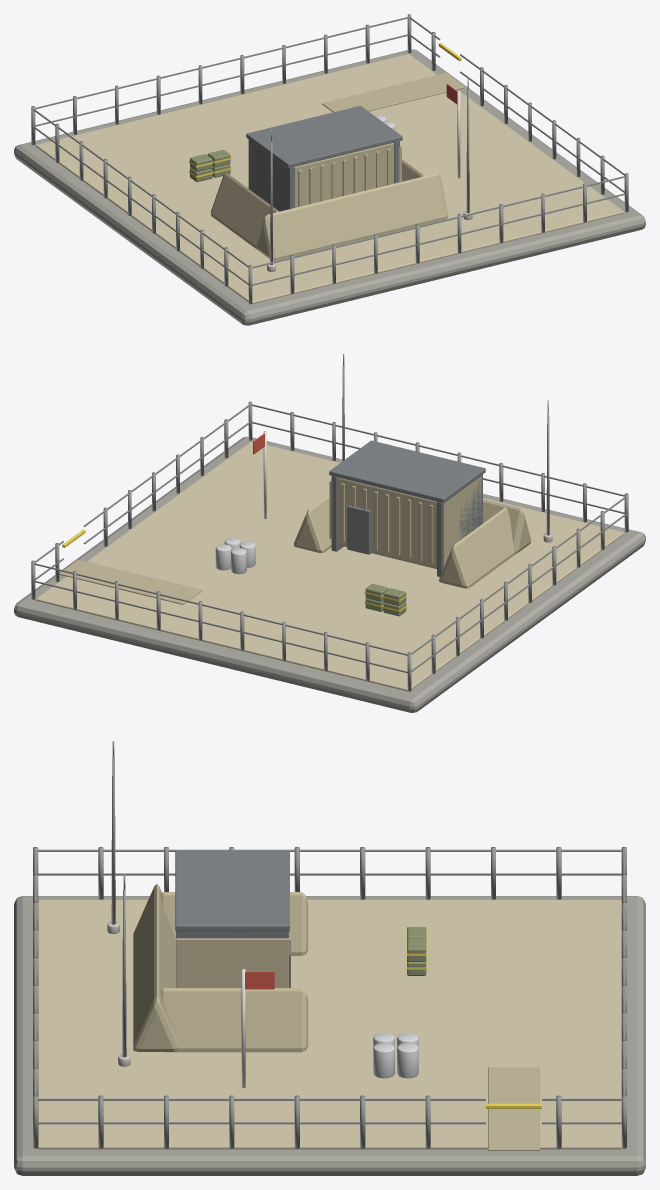
File: tnt_2.glb
3 views of the same model, one above another, from view 1: azimuth 30°, elevation 25°; view 2: azimuth 150°, elevation 25°; view 3: azimuth 270°, elevation 25° (orthographic). The views are drawn at different scales.
Visible parts, largest first — view 1: Cube.001, Cube, prism, Cube.016, Cube.003, prism.001, Cube.002, Cube.004, Cube.028, Cube.032, Cube.033, Cube.027 (+2 smaller); view 2: Cube.001, Cube, Cube.003, Cube.016, prism.001, Cube.002, prism.002, Cube.004, Cube.017, prism, Cube.032, Cube.027 (+4 smaller); view 3: Cube.001, Cube, Cube.016, prism.002, prism, Cube.015, Cube.002, prism.001, Cube.034, Cube.029, Cube.031, Cube.036 (+7 smaller).
Boxes of the visible parts, left/top/right/bottom form: Cube.001: left=35, top=54, right=624, bottom=304; Cube: left=14, top=49, right=645, bottom=325; prism: left=256, top=173, right=448, bottom=260; Cube.016: left=246, top=106, right=402, bottom=168; Cube.003: left=250, top=142, right=394, bottom=207; prism.001: left=210, top=172, right=278, bottom=249; Cube.002: left=322, top=73, right=464, bottom=112; Cube.004: left=248, top=140, right=294, bottom=211; Cube.028: left=252, top=193, right=625, bottom=285; Cube.032: left=35, top=17, right=408, bottom=109; Cube.033: left=252, top=176, right=625, bottom=268; Cube.027: left=35, top=34, right=408, bottom=126; Cube.001: left=35, top=441, right=624, bottom=691; Cube: left=14, top=436, right=645, bottom=712; Cube.003: left=337, top=476, right=481, bottom=568; Cube.016: left=329, top=440, right=485, bottom=502; prism.001: left=439, top=507, right=515, bottom=588; Cube.002: left=59, top=559, right=202, bottom=604; prism.002: left=293, top=494, right=331, bottom=553; Cube.004: left=437, top=474, right=482, bottom=576; Cube.017: left=347, top=505, right=370, bottom=554; prism: left=483, top=499, right=531, bottom=553; Cube.032: left=34, top=563, right=407, bottom=655; Cube.027: left=34, top=580, right=407, bottom=673; Cube.001: left=38, top=900, right=621, bottom=1149; Cube: left=14, top=896, right=645, bottom=1175; Cube.016: left=175, top=850, right=289, bottom=931; prism.002: left=159, top=988, right=308, bottom=1052; prism: left=133, top=884, right=178, bottom=1051; Cube.015: left=176, top=938, right=288, bottom=987; Cube.002: left=488, top=1067, right=539, bottom=1150; prism.001: left=159, top=892, right=308, bottom=955; Cube.034: left=37, top=849, right=622, bottom=851; Cube.029: left=37, top=873, right=622, bottom=875; Cube.031: left=37, top=1122, right=485, bottom=1124; Cube.036: left=37, top=1098, right=485, bottom=1100.
Size of the model in its own units: 2.92 by 1.08 by 2.92.
